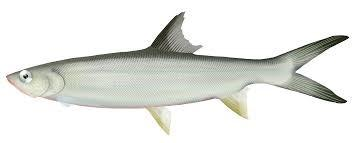Indo-Pacific Tarpon: (7, 11, 349, 134)
